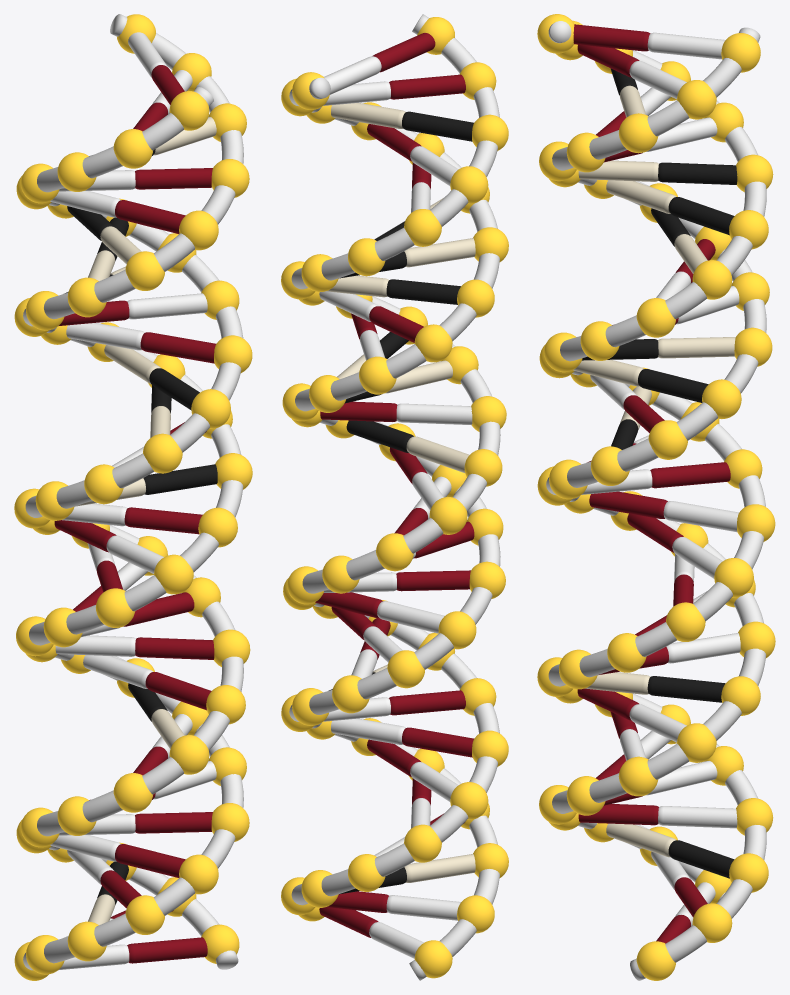
File: dna.glb
3 renders of one model, left to right at view 1: azimuth 30°, elevation 25°; view 2: azimuth 150°, elevation 25°; view 3: azimuth 270°, elevation 25°, orthographic. The views are drawn at different scales.
Visible parts, largest first — view 1: DNA_Phosphates, DNA_Adenine, DNA_Thymine, DNA_Backbone_A, DNA_Backbone_B, DNA_Cytosine, DNA_Guanine; view 2: DNA_Phosphates, DNA_Adenine, DNA_Thymine, DNA_Backbone_A, DNA_Backbone_B, DNA_Cytosine, DNA_Guanine; view 3: DNA_Phosphates, DNA_Thymine, DNA_Adenine, DNA_Backbone_A, DNA_Backbone_B, DNA_Guanine, DNA_Cytosine.
Boxes of the visible parts, x1=… form: DNA_Phosphates: x1=14, y1=14, x2=252, y2=980; DNA_Adenine: x1=54, y1=65, x2=215, y2=963; DNA_Thymine: x1=50, y1=32, x2=216, y2=970; DNA_Backbone_A: x1=25, y1=87, x2=243, y2=969; DNA_Backbone_B: x1=23, y1=14, x2=243, y2=970; DNA_Cytosine: x1=75, y1=117, x2=216, y2=925; DNA_Guanine: x1=64, y1=149, x2=217, y2=905; DNA_Phosphates: x1=281, y1=17, x2=508, y2=978; DNA_Adenine: x1=315, y1=33, x2=474, y2=937; DNA_Thymine: x1=319, y1=56, x2=472, y2=958; DNA_Backbone_A: x1=291, y1=14, x2=500, y2=905; DNA_Backbone_B: x1=289, y1=77, x2=500, y2=980; DNA_Cytosine: x1=326, y1=102, x2=475, y2=882; DNA_Guanine: x1=328, y1=111, x2=473, y2=894; DNA_Phosphates: x1=537, y1=14, x2=775, y2=980; DNA_Thymine: x1=581, y1=32, x2=740, y2=926; DNA_Adenine: x1=573, y1=24, x2=730, y2=943; DNA_Backbone_A: x1=548, y1=21, x2=766, y2=980; DNA_Backbone_B: x1=546, y1=27, x2=766, y2=901; DNA_Guanine: x1=582, y1=68, x2=737, y2=878; DNA_Cytosine: x1=573, y1=85, x2=735, y2=857.
Bounding box in the file's own units: 2.4 × 10.29 × 2.4.
